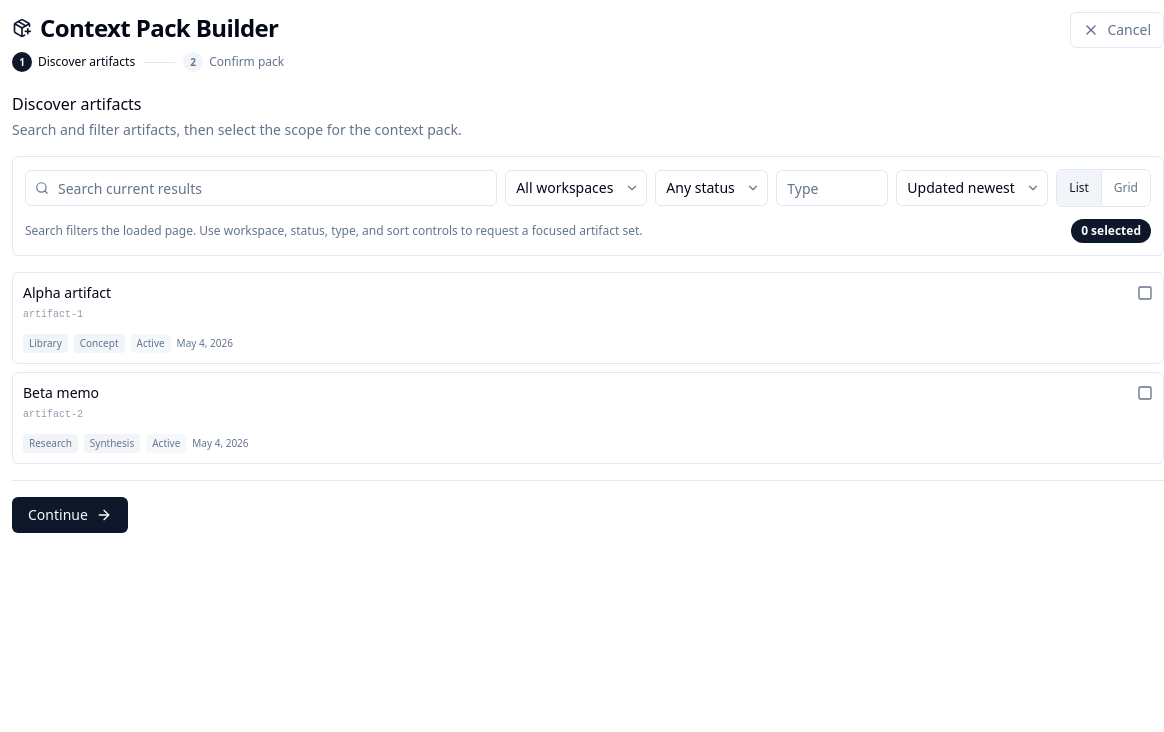
it: ContextPackBuilder › creates a pack and shows pack id plus version
Click the checkbox labelled "Alpha artifact artifact-1 library concept active May 4, 2026" at point(588, 318), box [12,272,1163,364]
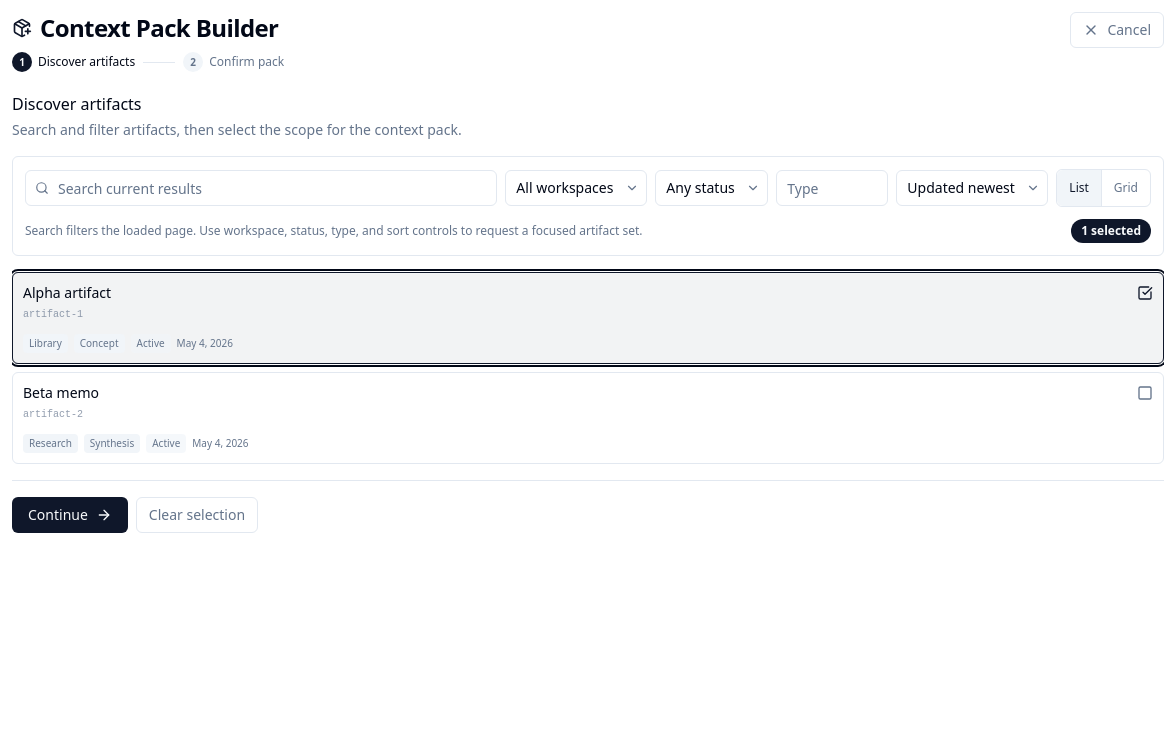
Click the button "Continue" at point(70, 515), box [12,497,128,533]
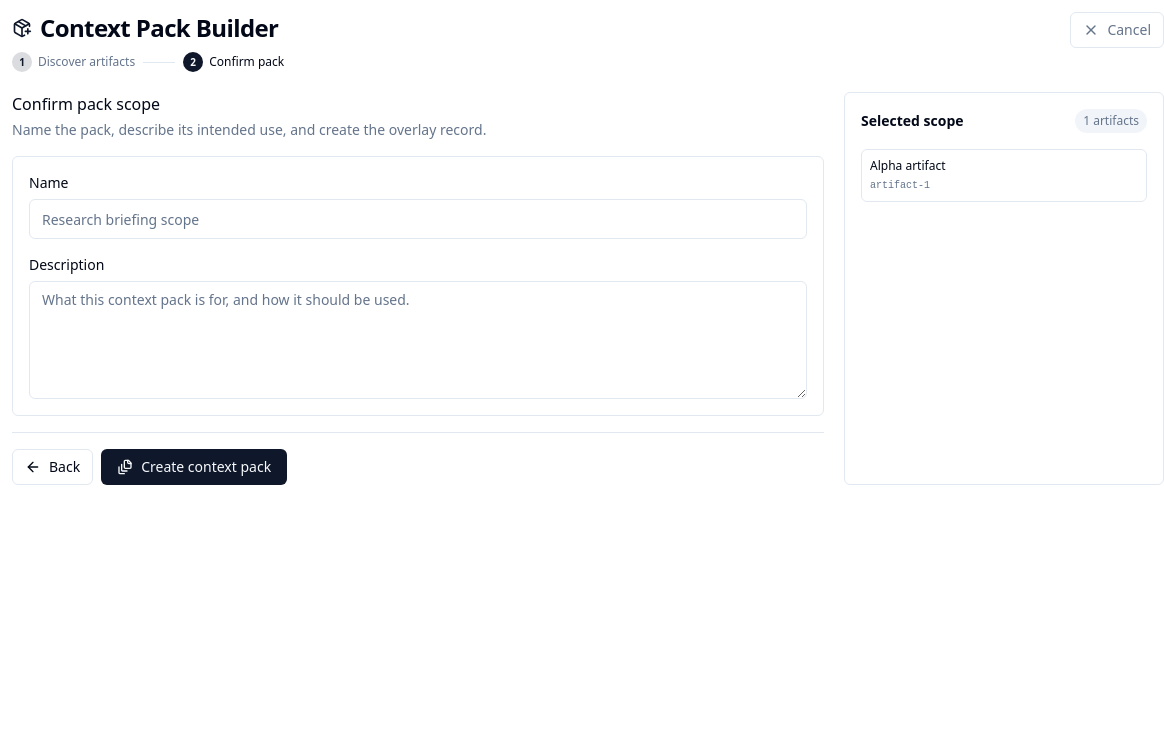
Type "Launch brief" into the field labelled "Name" at point(418, 219), box [29,199,807,239]
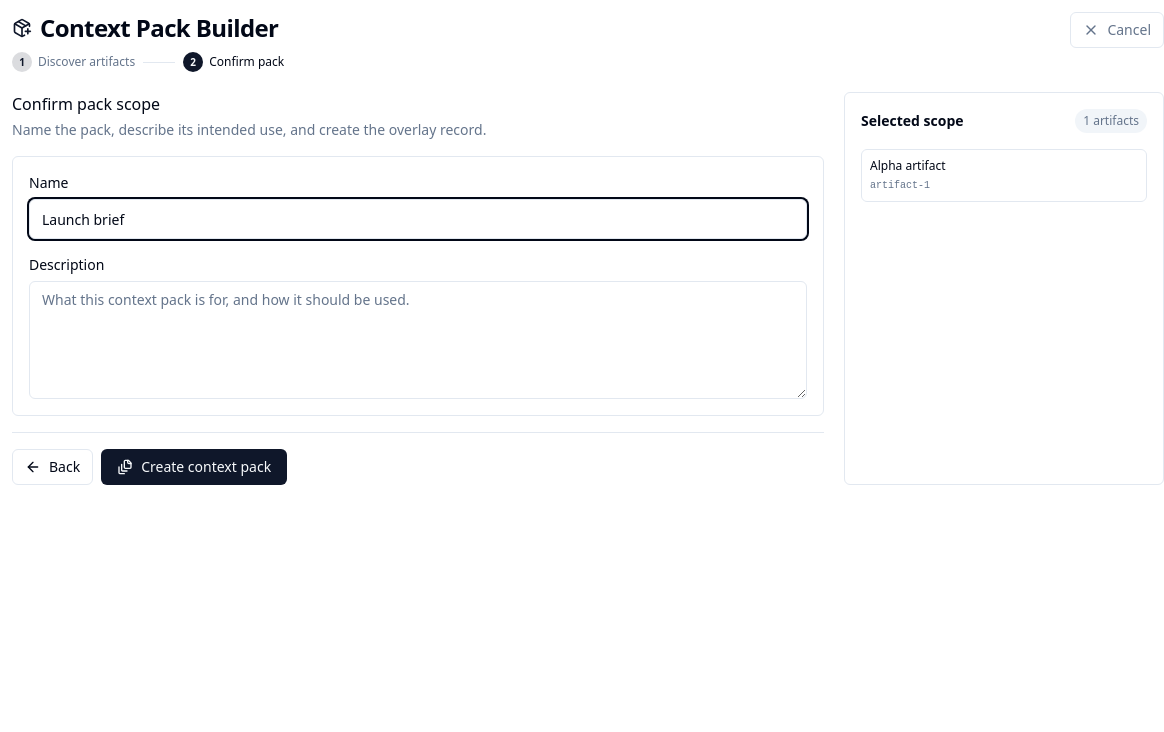
Type "Scope for a briefing pack" into the text box labelled "Description" at point(418, 340), box [29,281,807,399]
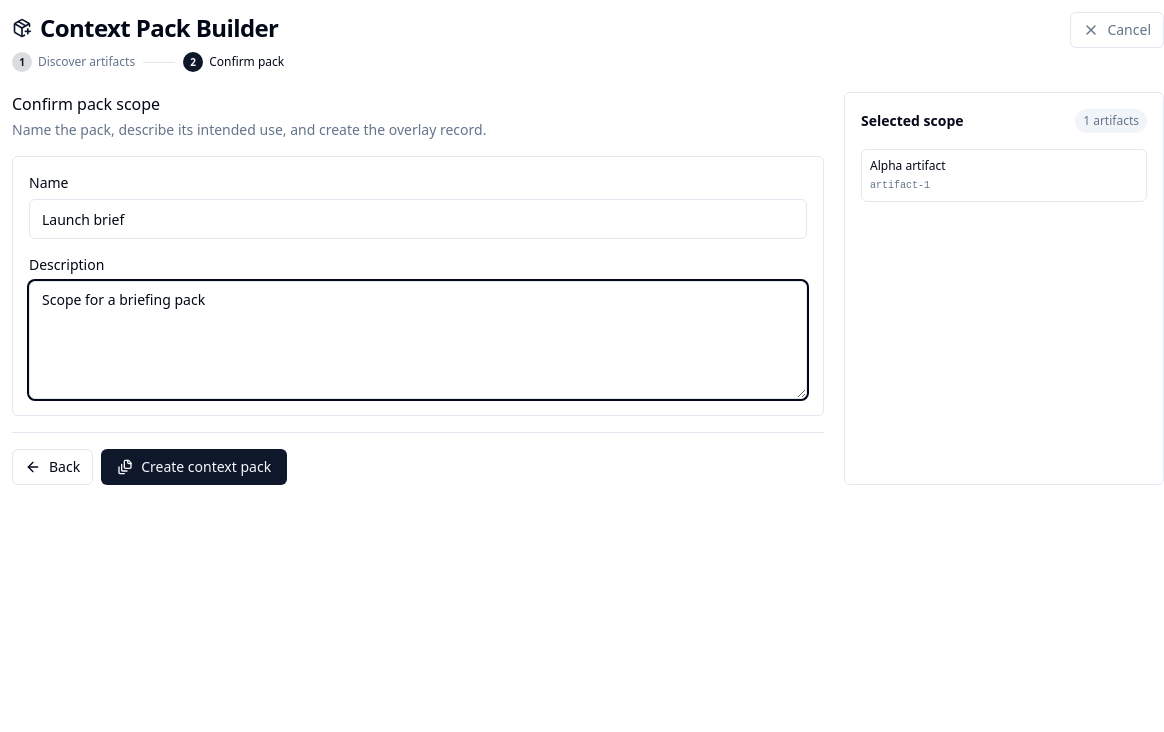
Click the button "Create context pack" at point(194, 467), box [101,449,287,485]
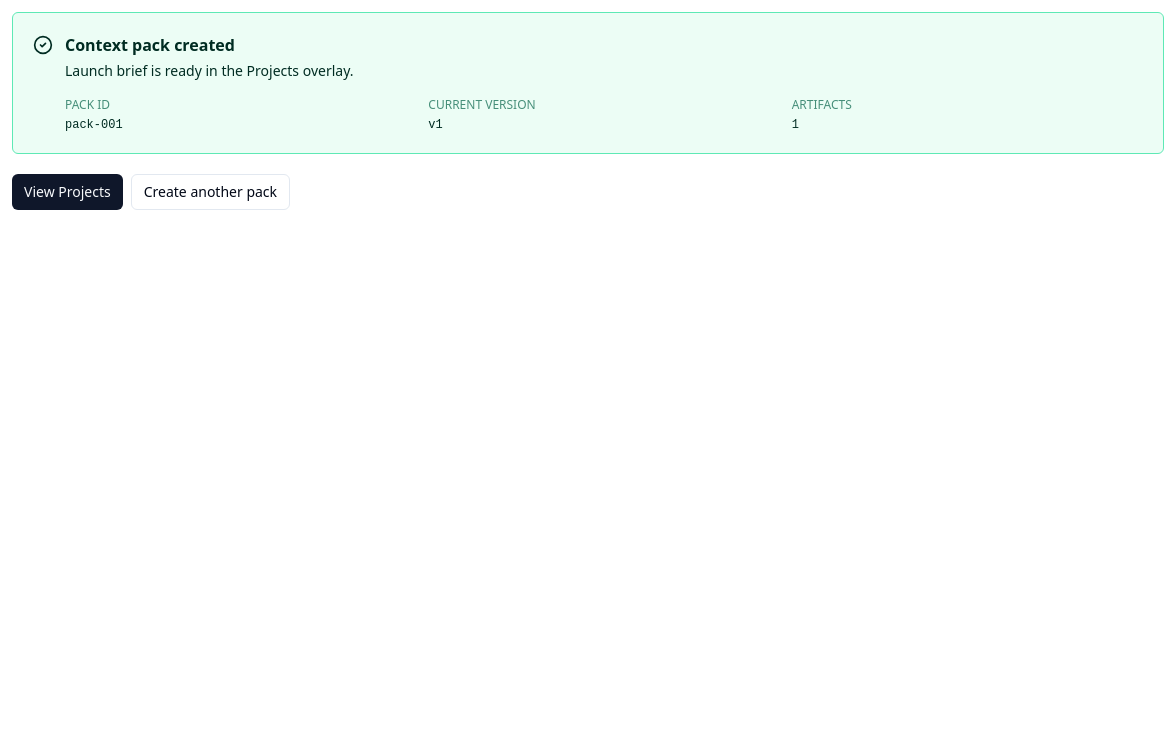
Now the heading "Context pack created" is shown, box [65,34,235,56]
Now the text "pack-001" is shown, box [65,118,123,132]
Now the text "v1" is shown, box [428,118,443,132]
